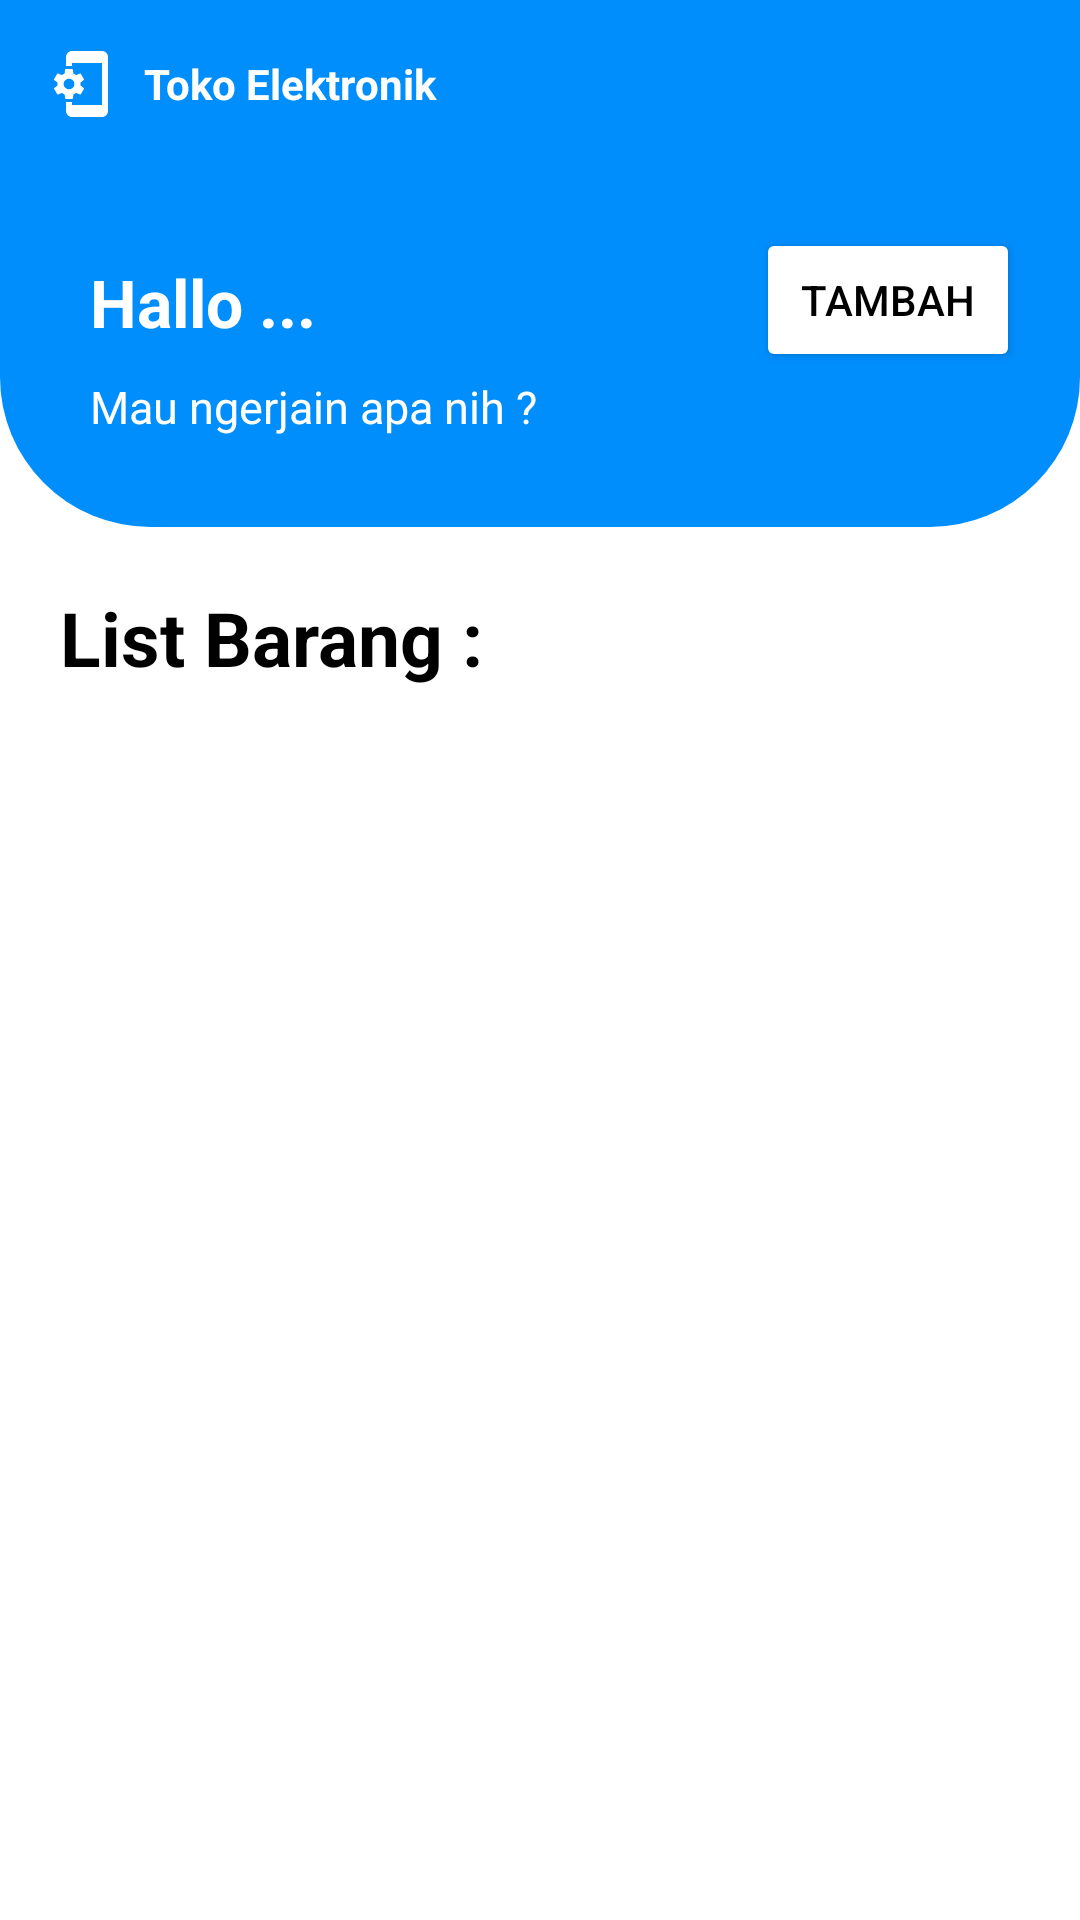

Screen size 1080 x 1920. Icon name, then its center in pixels as (x,y):
phonelink setup: (81,84)
